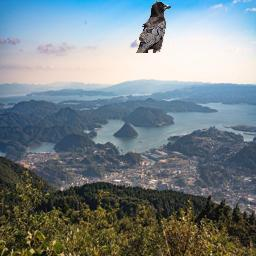Crow: (135, 1, 171, 54)
